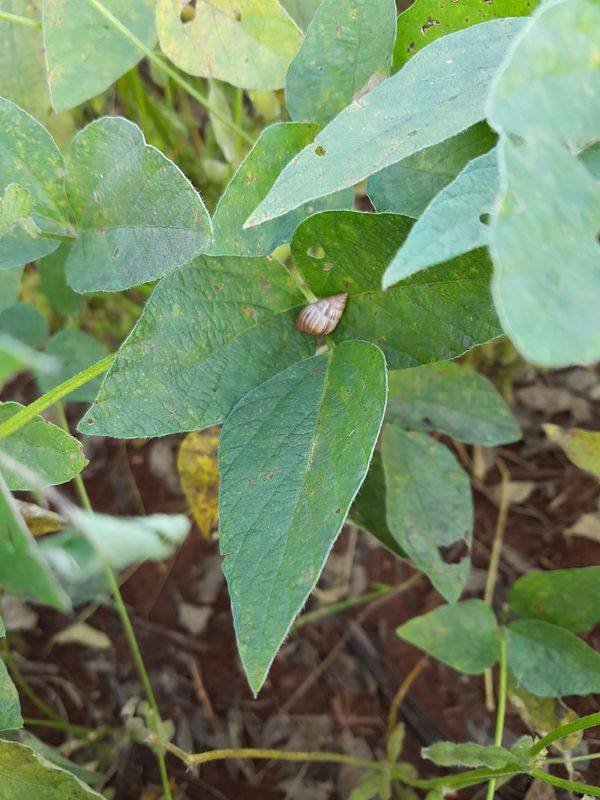Gastropoda: (288, 282, 355, 347)
